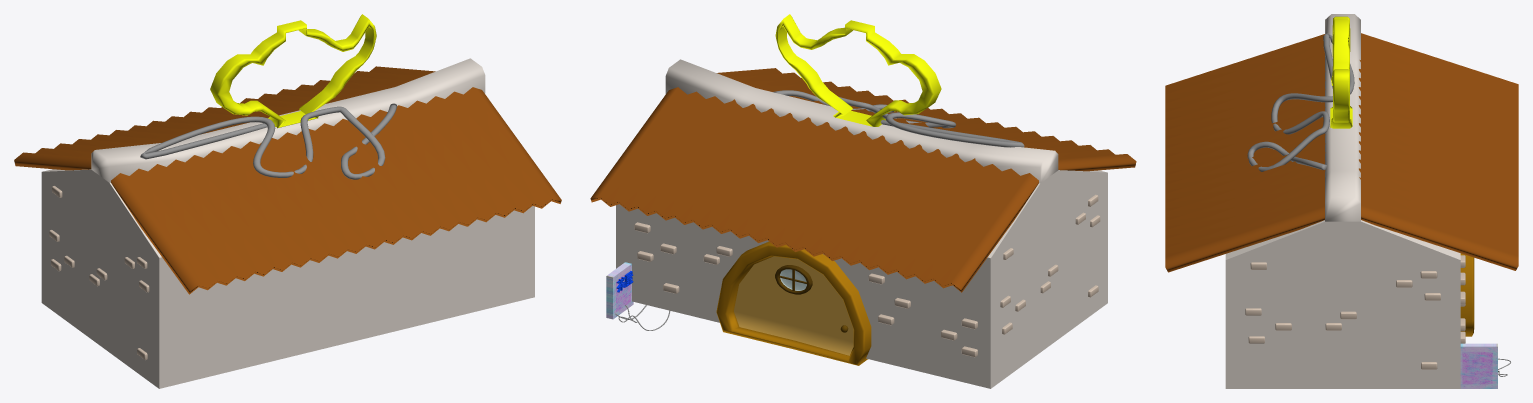
File: Teahouse.fbx
The picture shows the model from 3 angles, left to right: view 1: azimuth 30°, elevation 25°; view 2: azimuth 150°, elevation 25°; view 3: azimuth 270°, elevation 25°; orthographic projection.
Parts seen in each view (by area): view 1: main_building, roof, teapot, kabel2, bricks2; view 2: roof, main_building, door, teapot, kabel2, bricks, bord, bricks2, window; view 3: roof, main_building, kabel2, teapot, bord, bricks1, door, bricks.
Boxes of the visible parts, box(x1,y1,x2,y2) form: main_building: box(41, 58, 534, 388); roof: box(14, 66, 561, 294); teapot: box(210, 14, 376, 128); kabel2: box(140, 103, 396, 179); bricks2: box(49, 186, 149, 359); roof: box(590, 68, 1136, 292); main_building: box(616, 59, 1107, 388); door: box(716, 241, 871, 365); teapot: box(775, 14, 941, 126); kabel2: box(773, 90, 1024, 147); bricks: box(634, 222, 977, 357); bord: box(606, 262, 633, 319); bricks2: box(1000, 194, 1100, 334); window: box(775, 265, 812, 294); roof: box(1165, 33, 1518, 272); main_building: box(1225, 14, 1460, 388); kabel2: box(1247, 33, 1354, 171); teapot: box(1330, 16, 1352, 128); bord: box(1460, 343, 1497, 388); bricks1: box(1245, 262, 1440, 369); door: box(1460, 253, 1474, 336); bricks: box(1460, 255, 1465, 343).
Size of the model in its own units: 12.18 by 8.53 by 9.77.
